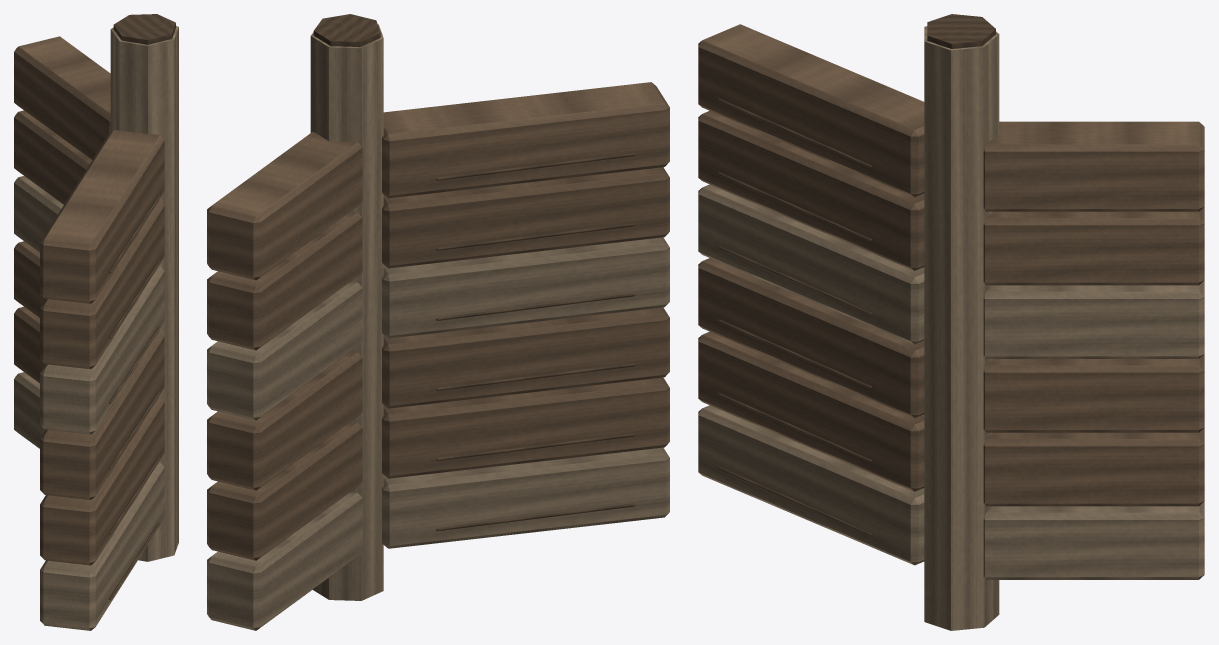
Rendered from wall_mask_144.glb.
3 renders of one model, left to right at view 1: azimuth 30°, elevation 25°; view 2: azimuth 150°, elevation 25°; view 3: azimuth 270°, elevation 25°, orthographic. The views are drawn at different scales.
Parts seen in each view (by area): view 1: Weathered timber, Timber worn edges, Dark endgrain; view 2: Weathered timber, Timber worn edges, Dark endgrain; view 3: Weathered timber, Timber worn edges, Dark endgrain.
Boxes of the visible parts, bbox=[...] form: Weathered timber: bbox=[14, 36, 164, 565]; Timber worn edges: bbox=[14, 26, 178, 630]; Dark endgrain: bbox=[109, 14, 175, 600]; Weathered timber: bbox=[207, 82, 669, 560]; Timber worn edges: bbox=[207, 24, 669, 630]; Dark endgrain: bbox=[313, 14, 635, 531]; Weathered timber: bbox=[698, 24, 1204, 506]; Timber worn edges: bbox=[698, 26, 1204, 630]; Dark endgrain: bbox=[718, 14, 995, 535].
Size of the model in its own units: 0.6463 by 1.39 by 1.09.
Materials: 3 (3 with a texture image).
